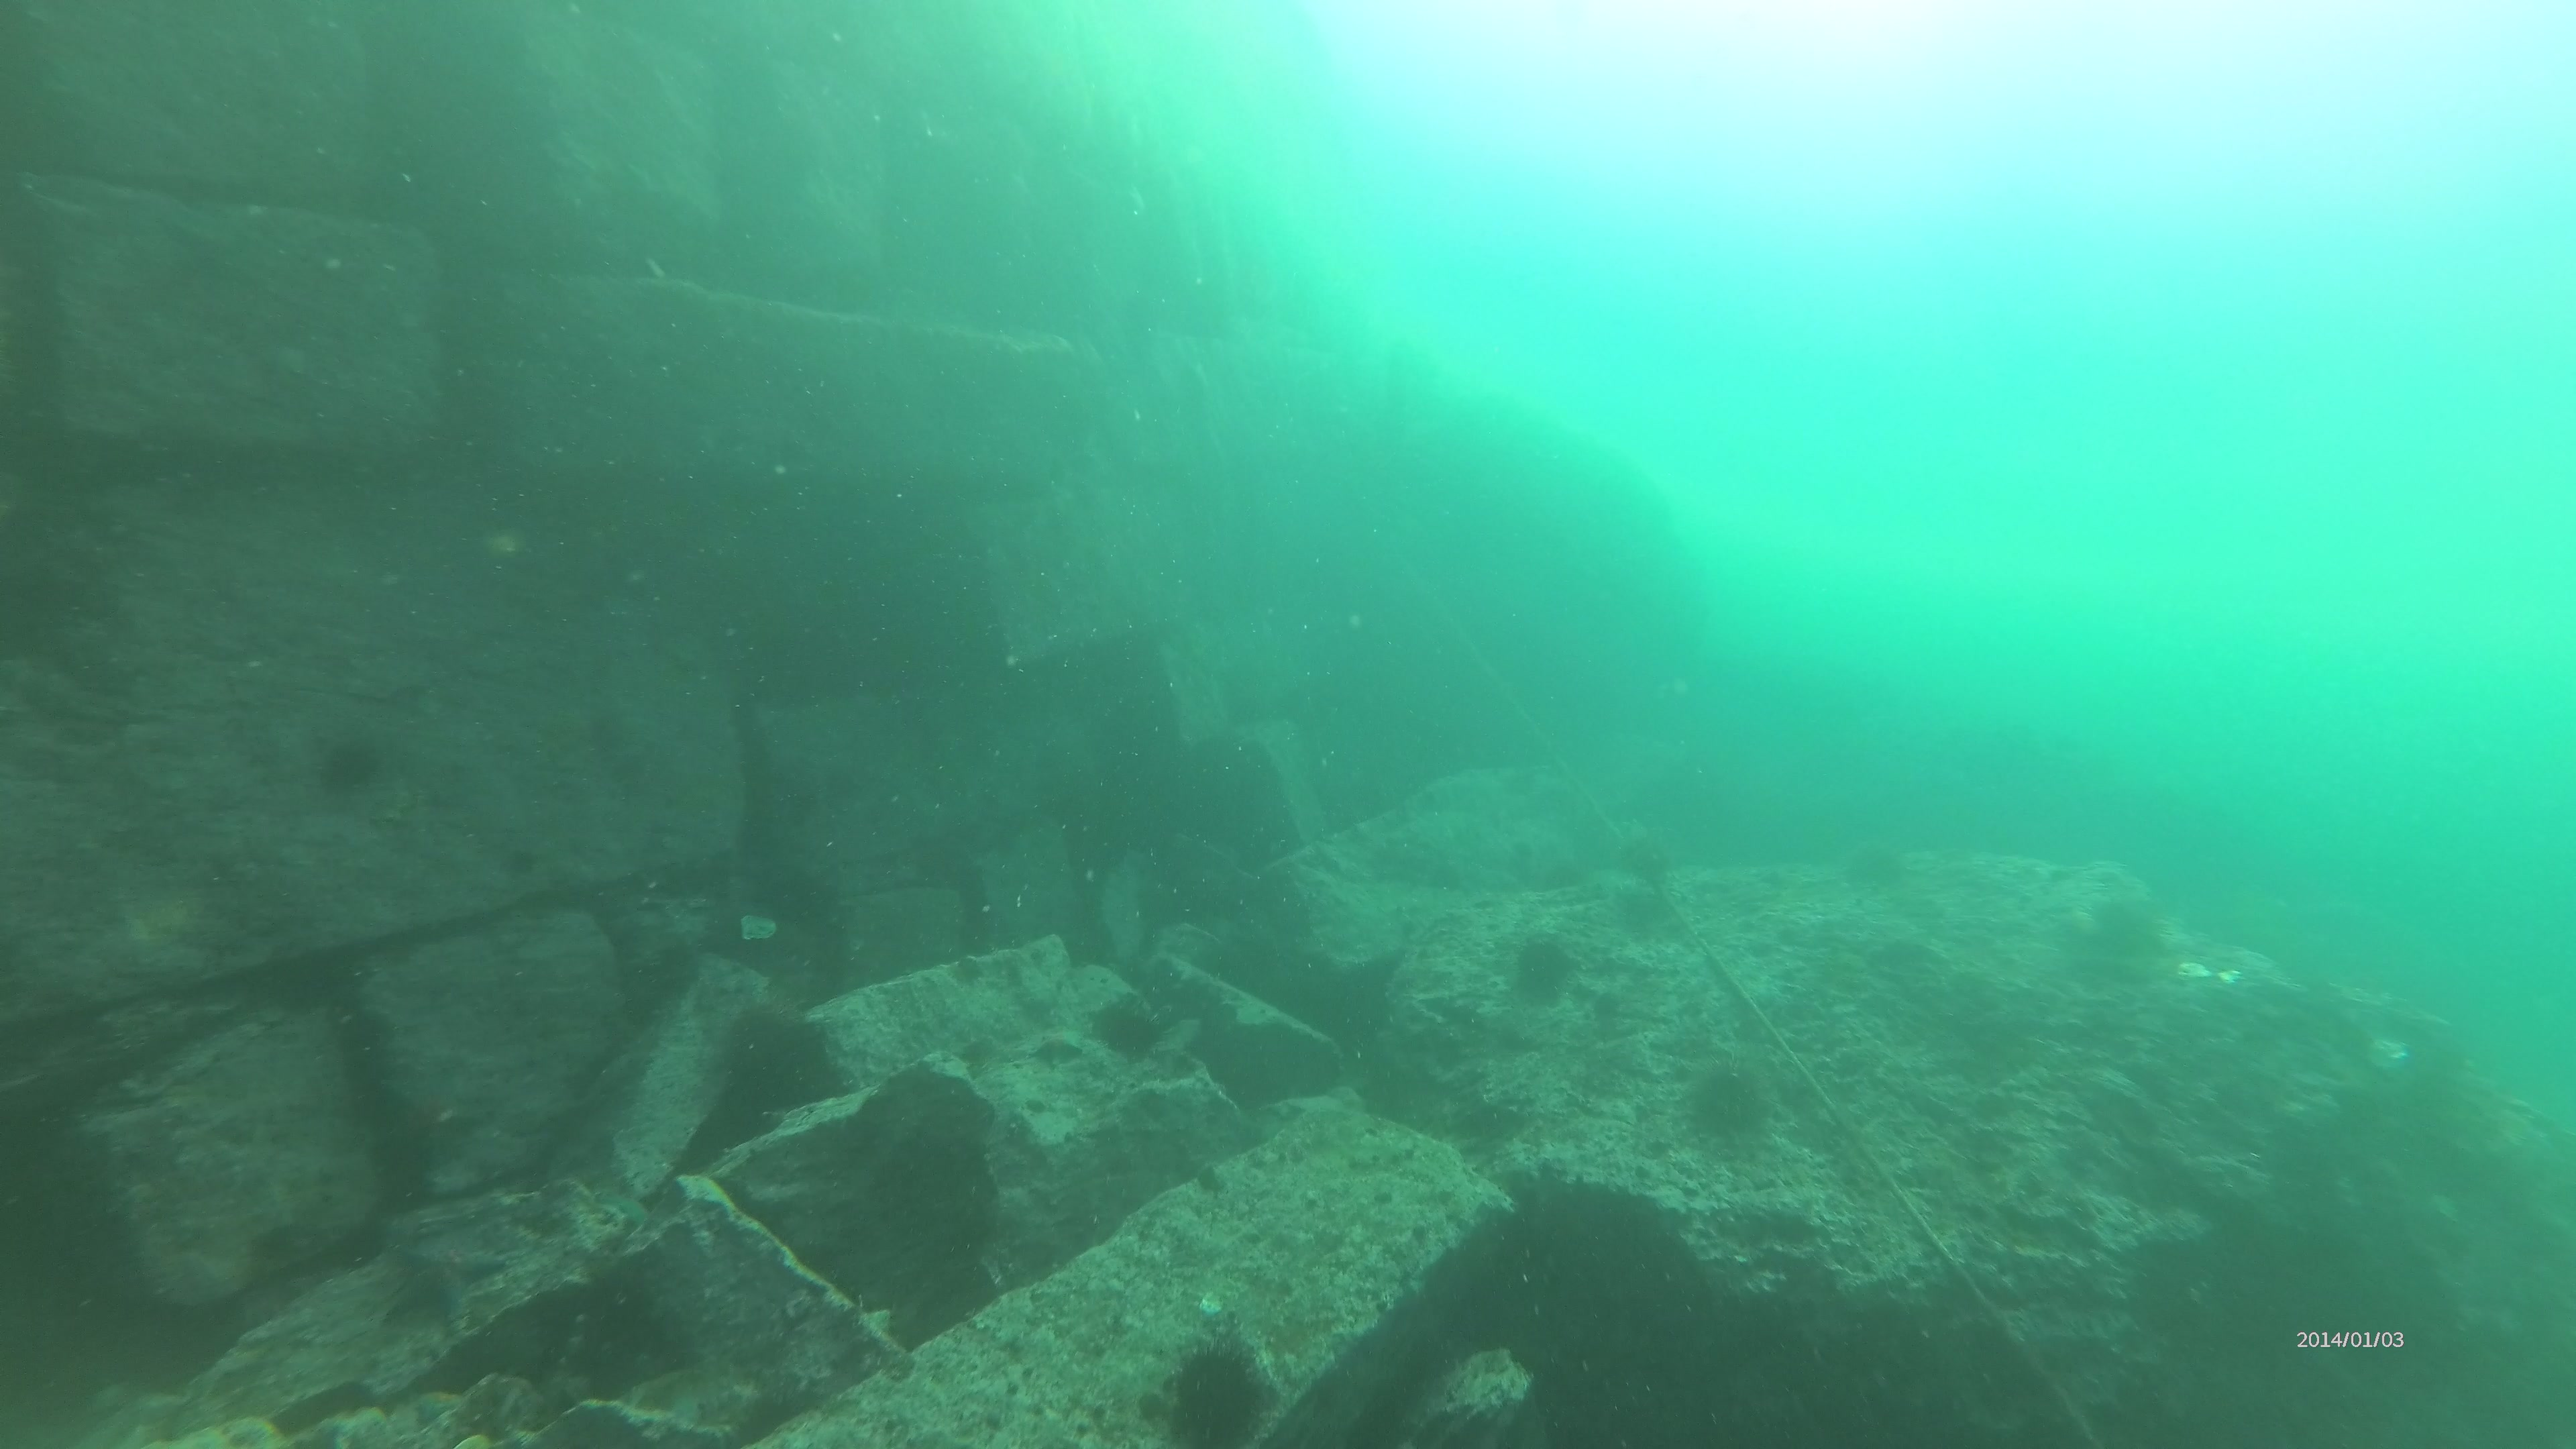echinus: (1168, 1323, 1292, 1447), (724, 1000, 853, 1108), (1683, 1049, 1799, 1148), (1093, 991, 1182, 1063), (1514, 931, 1585, 1008)
